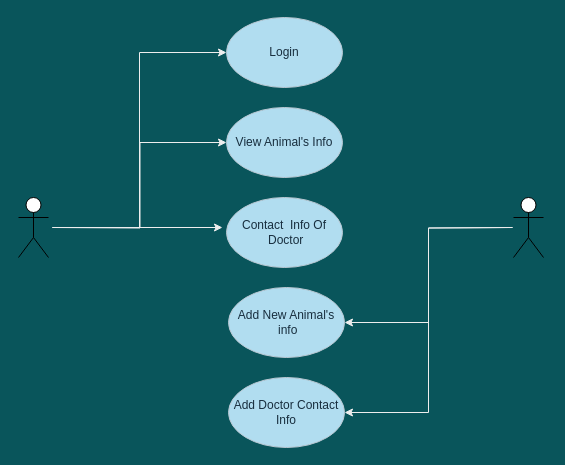
The diagram is 565 pixels wide and 465 high, and some of its shapes have lost their labels. The shapes that lost their labels are listed below. From the top down, each one's box as (x1, y1, x2, y2) in pixels, then its label:
(18, 196, 48, 258): USER
(512, 196, 544, 258): ADMIN
